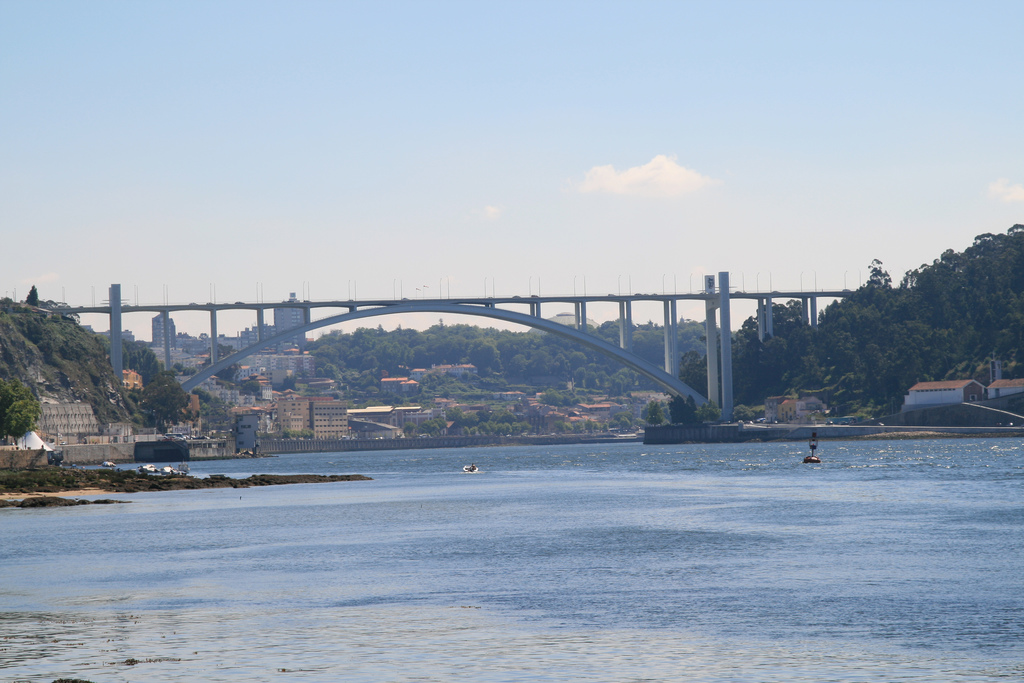arrabida: (43, 270, 856, 426)
